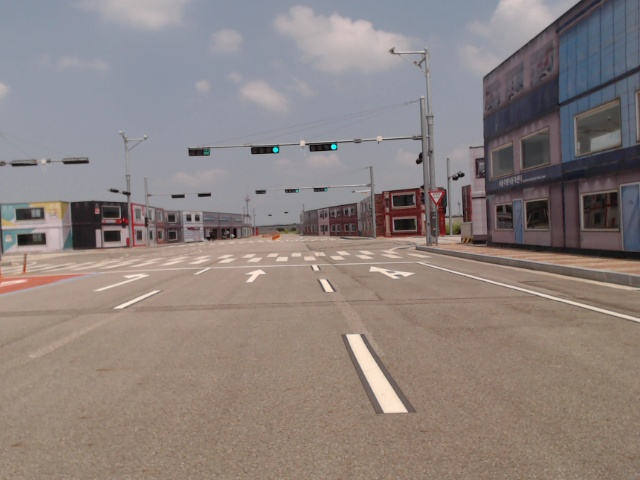straight_green_4: (308, 143, 338, 152), (251, 146, 281, 154), (313, 187, 328, 193), (284, 189, 300, 193)
